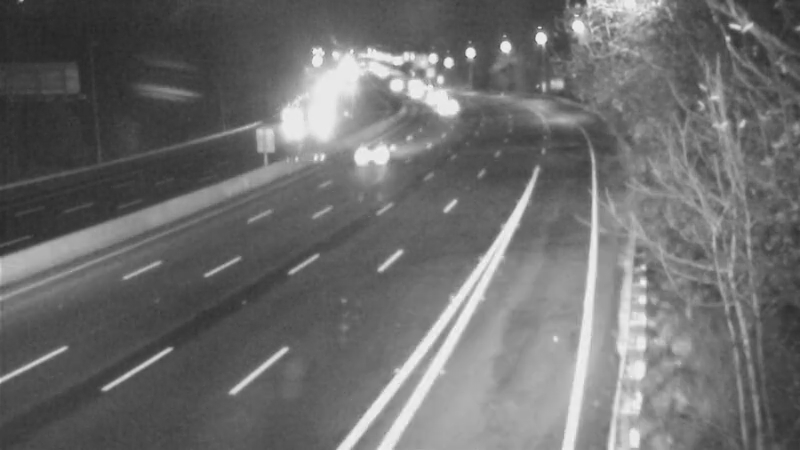vehicle: (327, 111, 407, 191), (369, 59, 419, 109), (395, 70, 445, 120), (412, 72, 462, 122), (421, 82, 471, 132), (264, 104, 314, 154)
